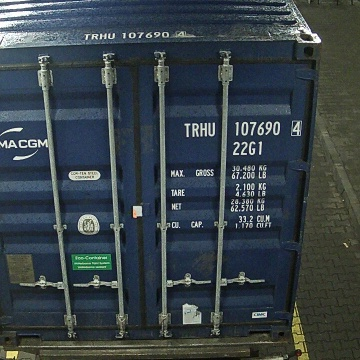serial_id: (183, 121, 301, 137)
